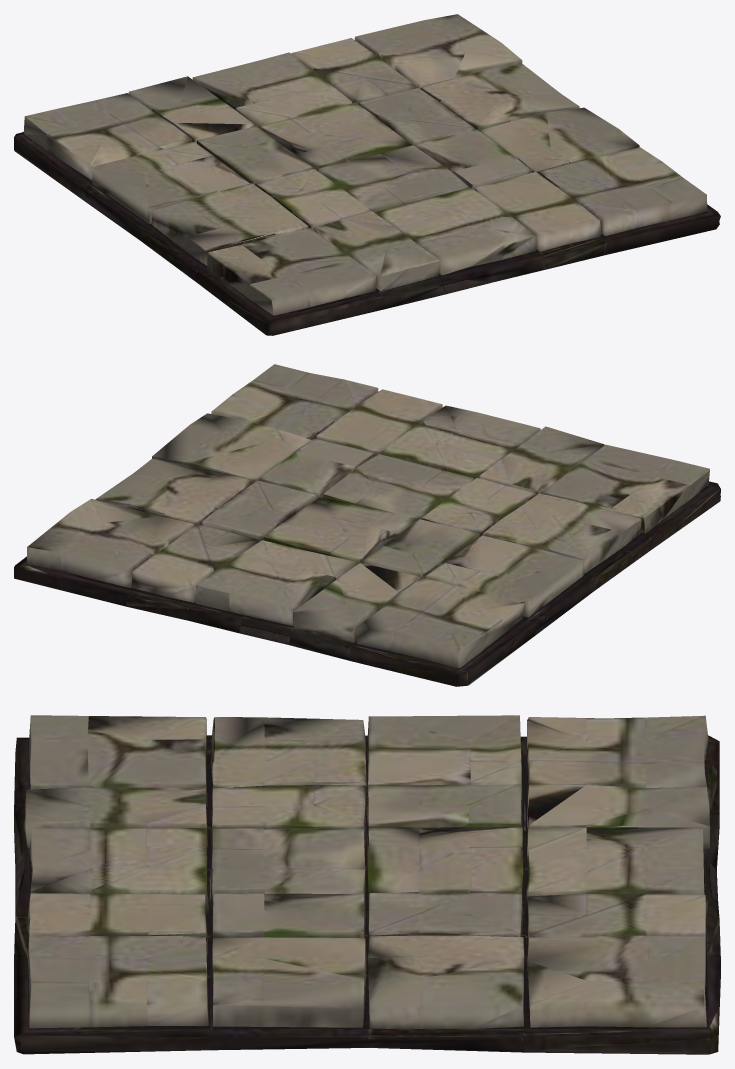
Rendered from PathTile.lod1.glb.
The picture shows the model from 3 angles, top to bottom: view 1: azimuth 30°, elevation 25°; view 2: azimuth 150°, elevation 25°; view 3: azimuth 270°, elevation 25°; orthographic projection. The views are drawn at different scales.
Bounding box in the file's own units: 2 × 0.1494 × 2.
Materials: 1 (1 with a texture image).
